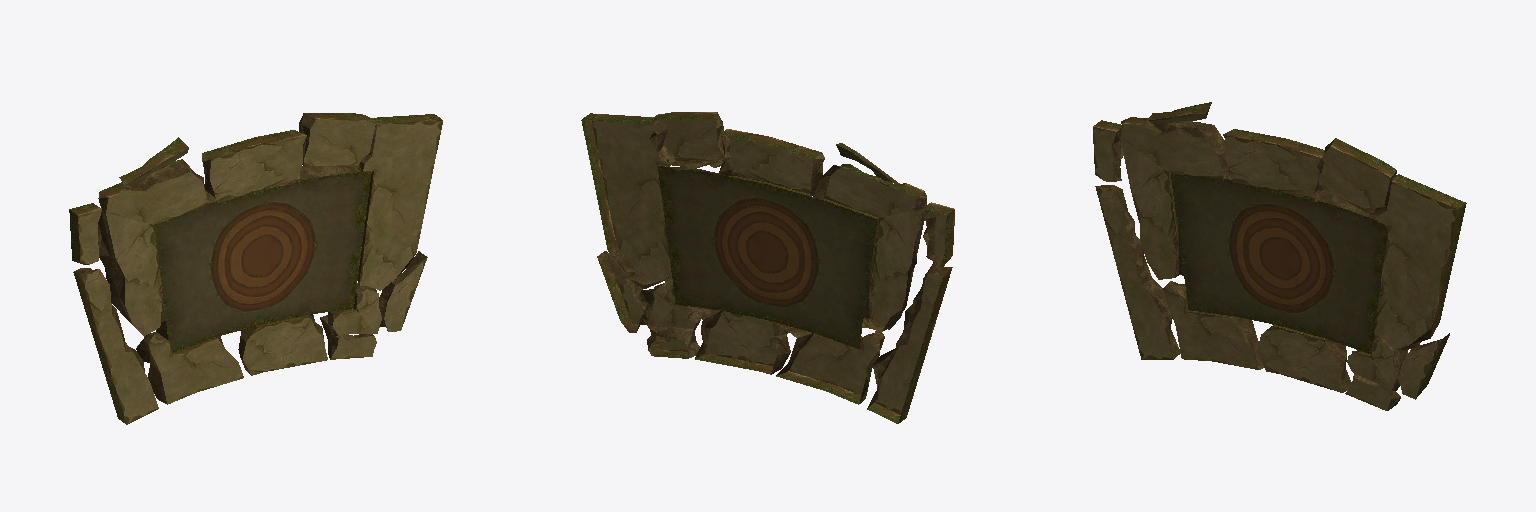
3 views of the same model, side by side, from view 1: azimuth 30°, elevation 25°; view 2: azimuth 150°, elevation 25°; view 3: azimuth 330°, elevation 25° (orthographic).
Visible parts, largest first — view 1: juqing_yewai_597_diban03; view 2: juqing_yewai_597_diban03; view 3: juqing_yewai_597_diban03.
Boxes of the visible parts, <box> form: juqing_yewai_597_diban03: <box>69,113,442,424</box>; juqing_yewai_597_diban03: <box>581,112,954,423</box>; juqing_yewai_597_diban03: <box>1093,102,1466,410</box>.
Size of the model in its own units: 974 by 677 by 43.78.
Materials: 3 (3 with a texture image).